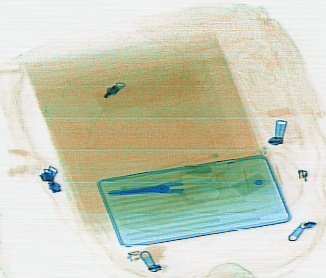scissors: (107, 167, 224, 202)
